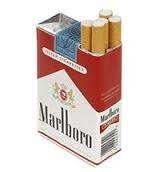marlboro: (35, 44, 97, 153)
